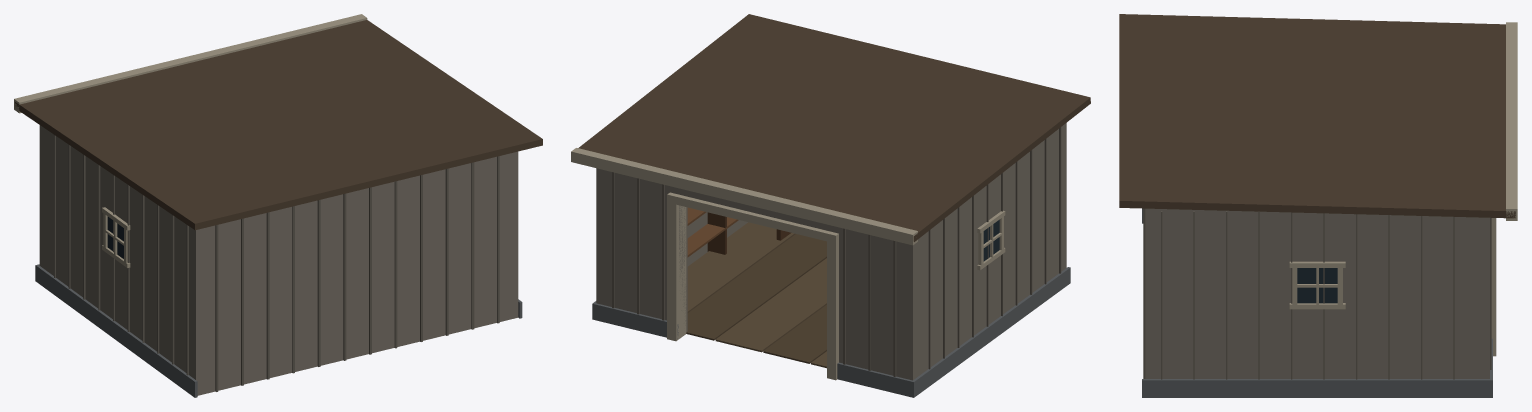
The model's file is bldg_shed.glb.
3 renders of one model, left to right at view 1: azimuth 30°, elevation 25°; view 2: azimuth 150°, elevation 25°; view 3: azimuth 270°, elevation 25°, orthographic. The views are drawn at different scales.
Parts seen in each view (by area): view 1: Walls, Roof; view 2: Roof, Walls, Interior; view 3: Roof, Walls.
Part boxes in pixels (x1,y1,x2,y2): Walls: (35,125,522,397); Roof: (14,14,542,230); Roof: (571,14,1090,245); Walls: (592,123,1070,397); Interior: (686,207,826,368); Roof: (1119,14,1517,220); Walls: (1142,208,1496,397).
Size of the model in its own units: 6.8 by 3.44 by 6.13.
